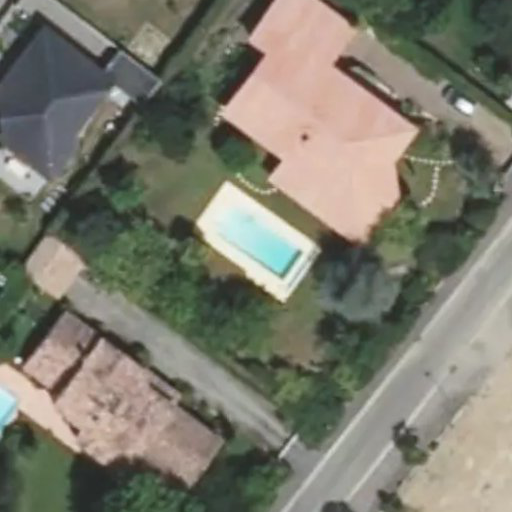pool: (205, 226, 302, 251)
